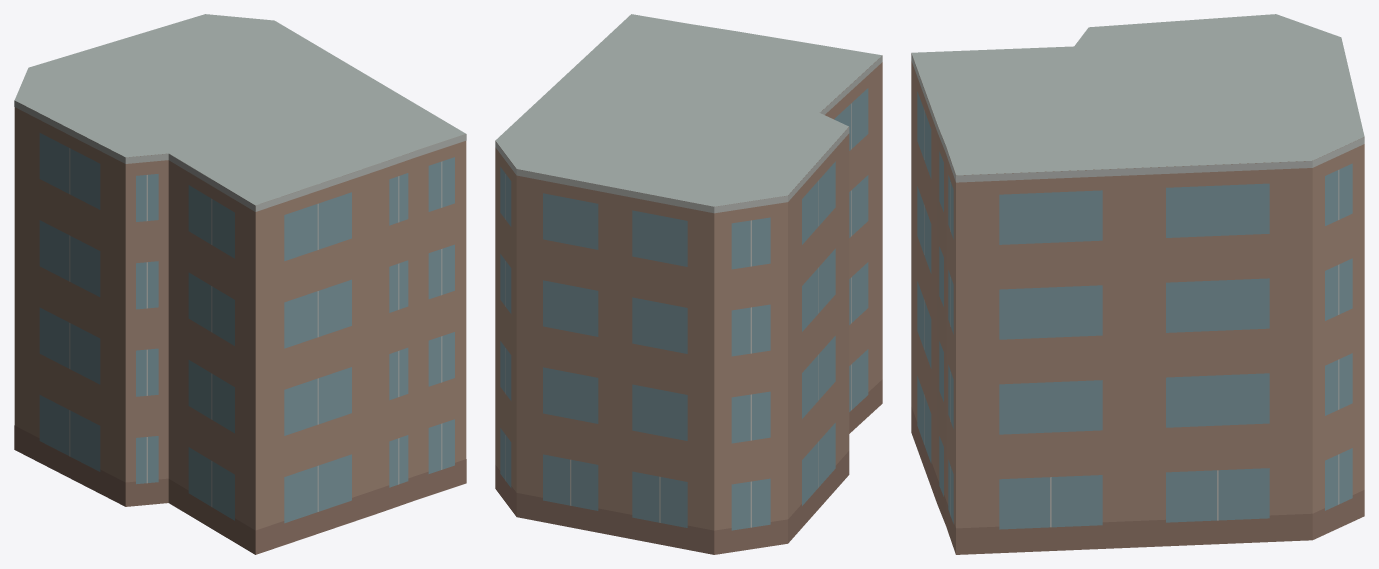
The model's file is survey-upis-32749830.glb.
3 views of the same model, side by side, from view 1: azimuth 30°, elevation 25°; view 2: azimuth 150°, elevation 25°; view 3: azimuth 270°, elevation 25° (orthographic). The views are drawn at different scales.
Visible parts, largest first — view 1: survey-upis-32749830.tmp; view 2: survey-upis-32749830.tmp; view 3: survey-upis-32749830.tmp.
Part boxes in pixels (bbox=[...]): survey-upis-32749830.tmp: bbox=[14, 14, 466, 554]; survey-upis-32749830.tmp: bbox=[495, 14, 882, 554]; survey-upis-32749830.tmp: bbox=[911, 14, 1364, 554].
Size of the model in its own units: 11.78 by 12.9 by 13.98.
